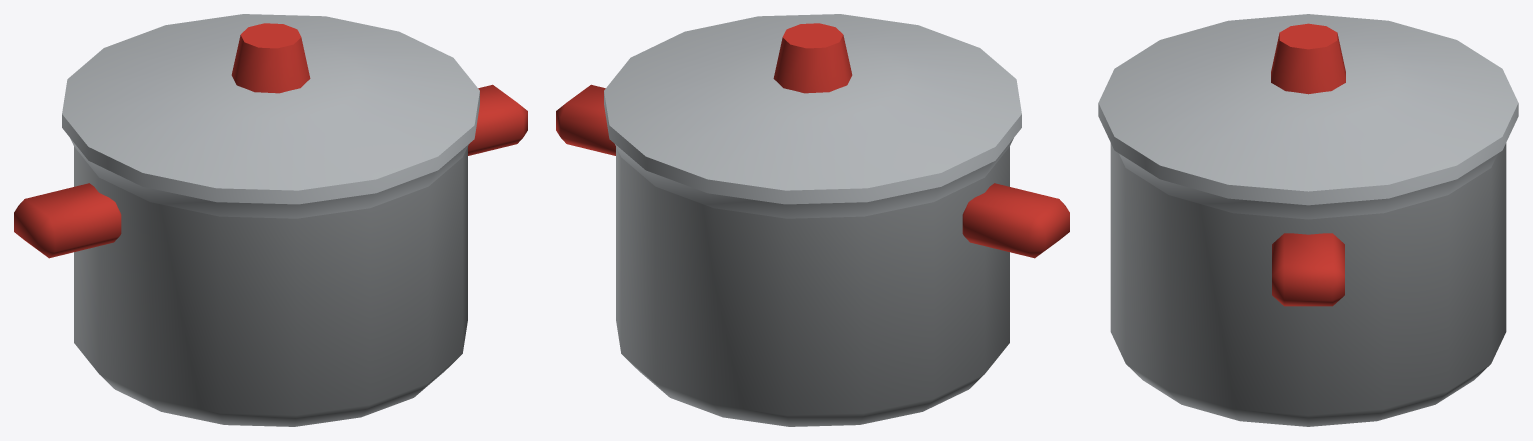
Rendered from Pot_Stock_01.glb.
The picture shows the model from 3 angles, left to right: view 1: azimuth 30°, elevation 25°; view 2: azimuth 150°, elevation 25°; view 3: azimuth 270°, elevation 25°; orthographic projection.
Parts seen in each view (by area): view 1: SM_Pot_Stock_01; view 2: SM_Pot_Stock_01; view 3: SM_Pot_Stock_01.
Boxes of the visible parts, x1=… form: SM_Pot_Stock_01: x1=14, y1=14, x2=527, y2=426; SM_Pot_Stock_01: x1=556, y1=14, x2=1069, y2=426; SM_Pot_Stock_01: x1=1098, y1=14, x2=1518, y2=426.
Bounding box in the file's own units: 0.37 × 0.228 × 0.276.
1 material, 1 textured.
